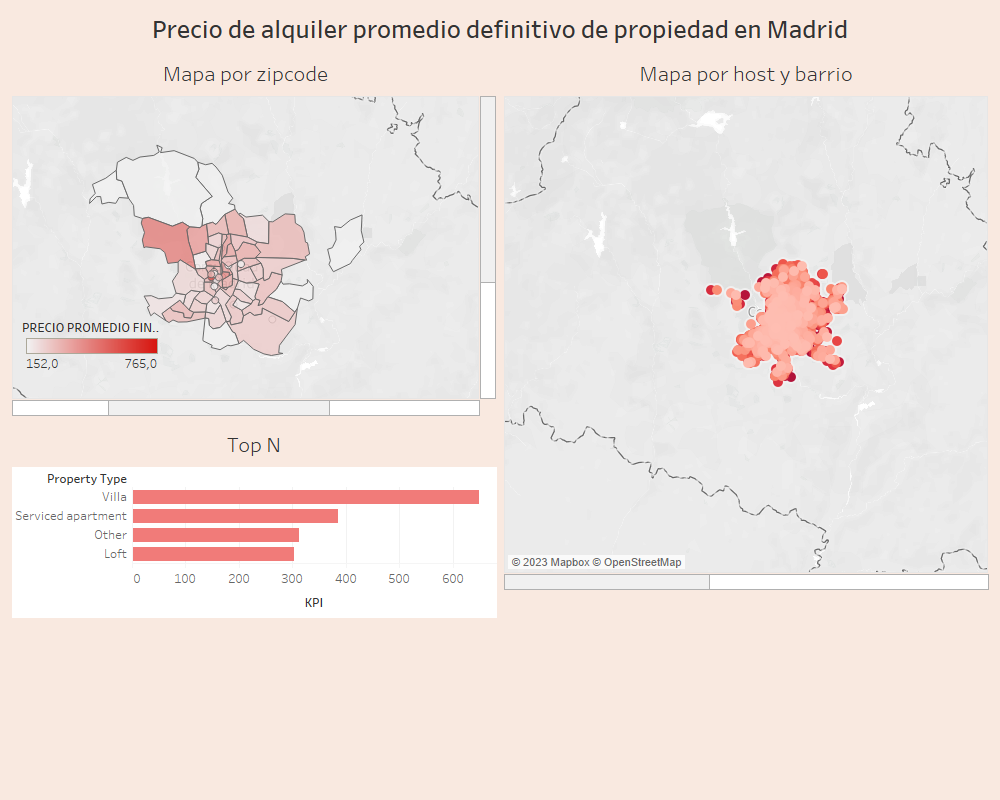

The dashboard page shown, as its layout file describes it:
{"tool":"tableau","page":{"name":"Dashboard 1","canvas":[1000,800],"ordinal":0},"visuals":[{"type":"title","box":[8,8,984,41]},{"type":"worksheet","title":"Hoja 4","mark":"Multipolygon","rows":["Calculation_385339293325185024"],"cols":["Calculation_385339293325352961"],"box":[8,49,492,371.5]},{"type":"worksheet","title":"Hoja 5","mark":"Automatic","rows":["Calculation_385339293325185024"],"cols":["Calculation_385339293325352961"],"box":[500,49,492,743]},{"type":"legend","title":"Hoja 4","param":"[federated.1hd975j1swwk2m14lk0au10rsh8l].[usr:Calculation_385339293325774850:qk]","box":[22,315,140,57]},{"type":"worksheet","title":"Hoja 6","mark":"Automatic","rows":["Property Type"],"cols":["Calculation_385339293325774850"],"box":[8,420.5,492,371.5]}]}

Visuals, with their boxes in screenshot pixels (x1, y1, x2, y2), scaled from the page's 1000x800 canvas onto the 1000x800 screenshot:
title: region(8, 8, 992, 49)
"Hoja 4" worksheet (Multipolygon marks): region(8, 49, 500, 420)
"Hoja 5" worksheet: region(500, 49, 992, 792)
"Hoja 4" legend: region(22, 315, 162, 372)
"Hoja 6" worksheet: region(8, 420, 500, 792)
